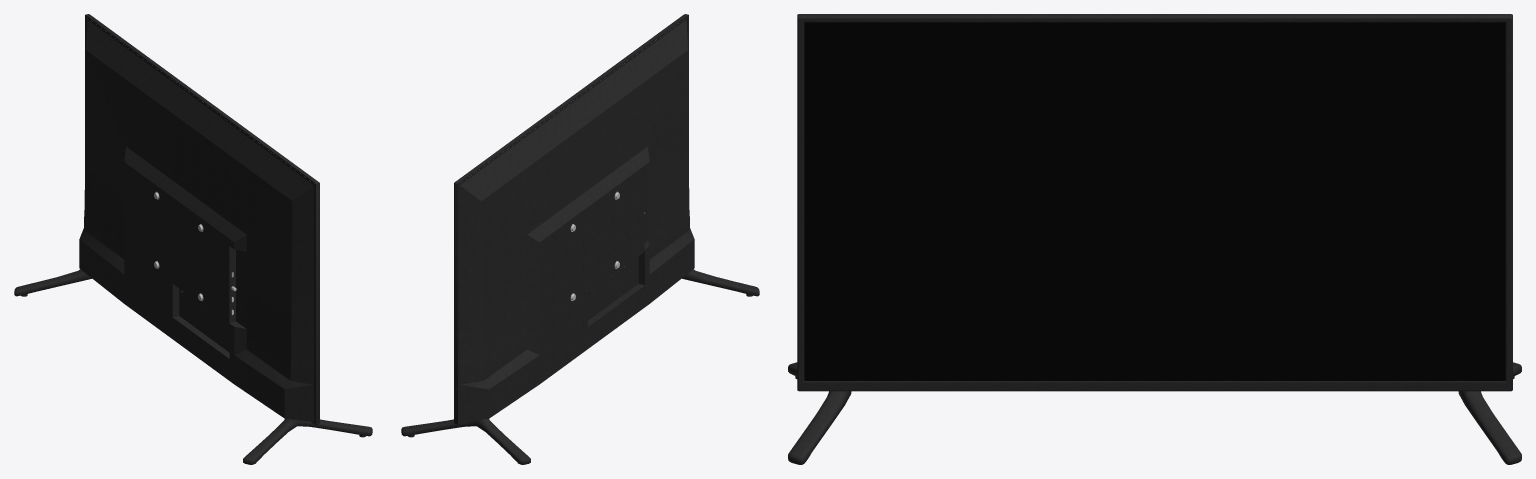
Rendered from Tivi.glb.
The picture shows the model from 3 angles, left to right: view 1: azimuth 30°, elevation 25°; view 2: azimuth 150°, elevation 25°; view 3: azimuth 270°, elevation 25°; orthographic projection. The views are drawn at different scales.
Parts seen in each view (by area): view 1: TV; view 2: TV; view 3: TV.
Part boxes in pixels (x1,y1,x2,y2): TV: (14, 14, 372, 464); TV: (401, 14, 759, 464); TV: (788, 14, 1521, 464).
Size of the model in its own units: 0.3658 by 0.7162 by 1.16.
Materials: 1 (1 with a texture image).
